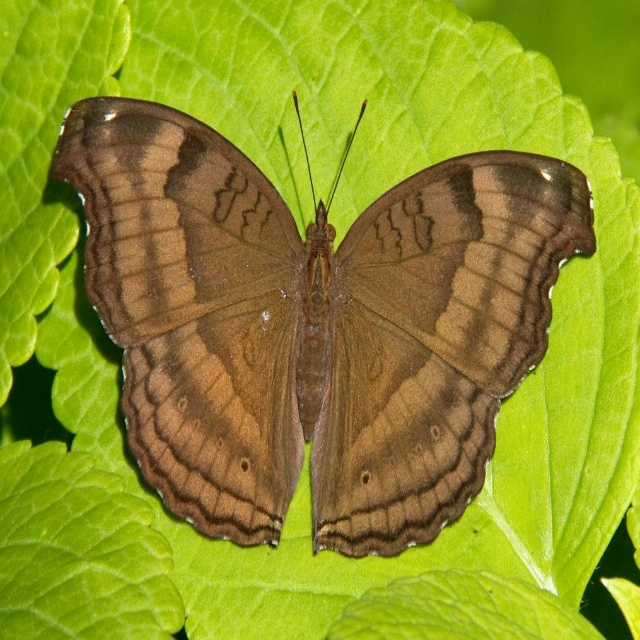Butterfly: (47, 69, 601, 566)
